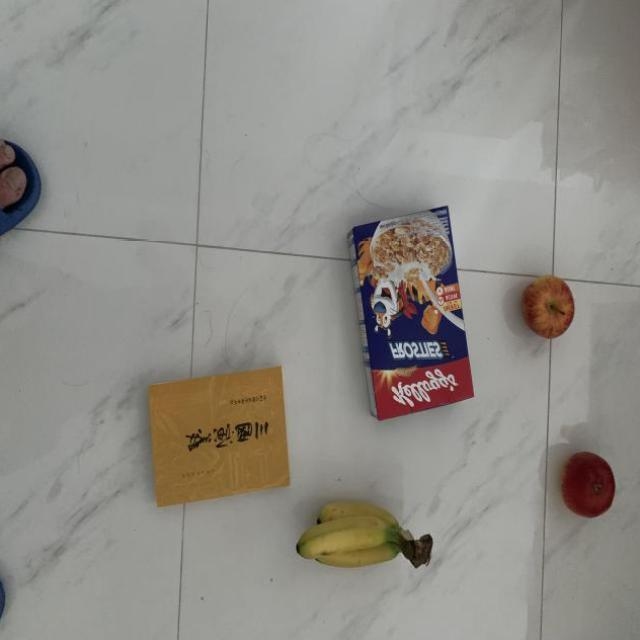Apple: (561, 449, 618, 522), (518, 271, 576, 338)
Banana: (293, 494, 432, 573)
Book: (146, 361, 292, 513)
Cerealbox: (345, 202, 480, 425)
